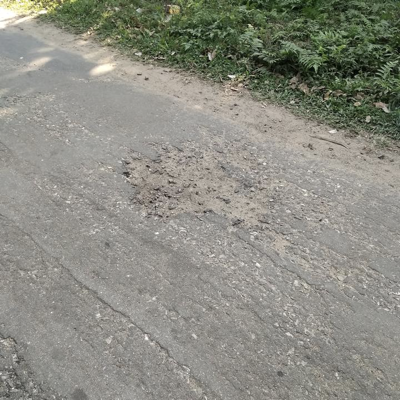pothole: (119, 140, 269, 228)
